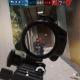Character: (33, 38, 47, 55)
Friend_label: (24, 27, 28, 29)
Head: (36, 38, 40, 43)
